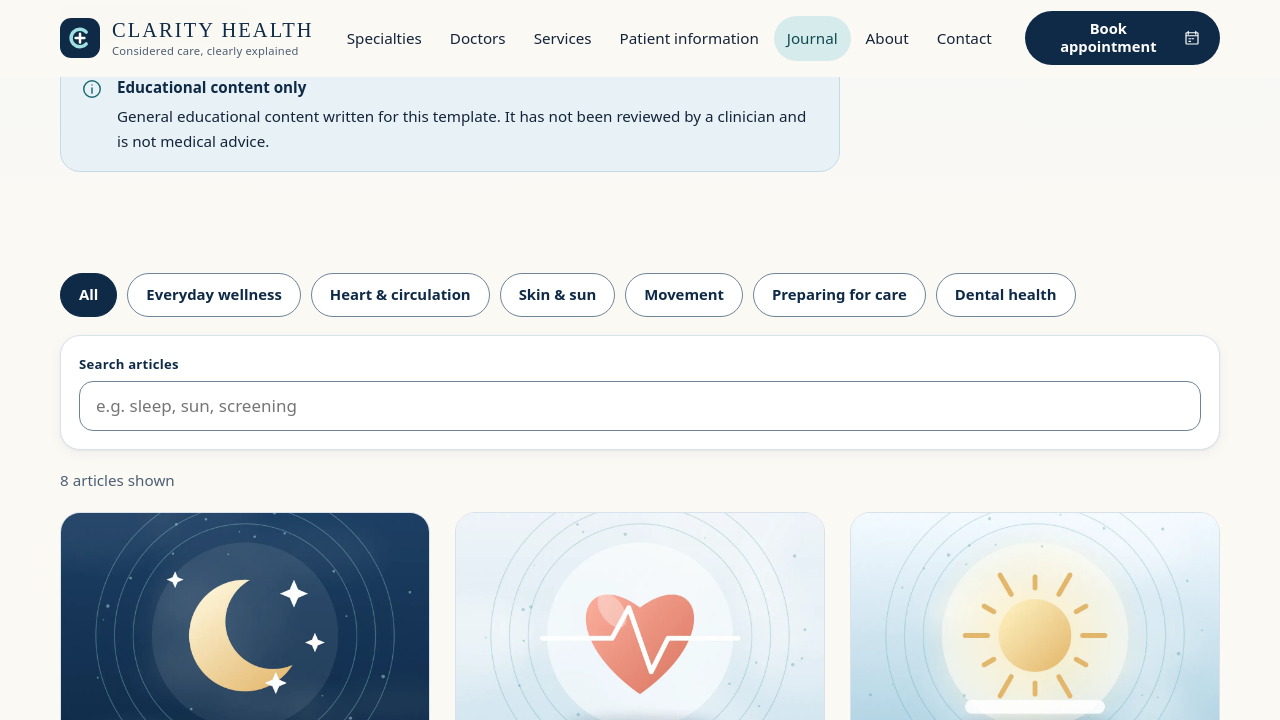
Test: filters › searches journal articles
(page scrolled)
Step 1. Type "sunscreen" into the search field labelled "Search articles" → (640, 406), box [79,381,1201,431]
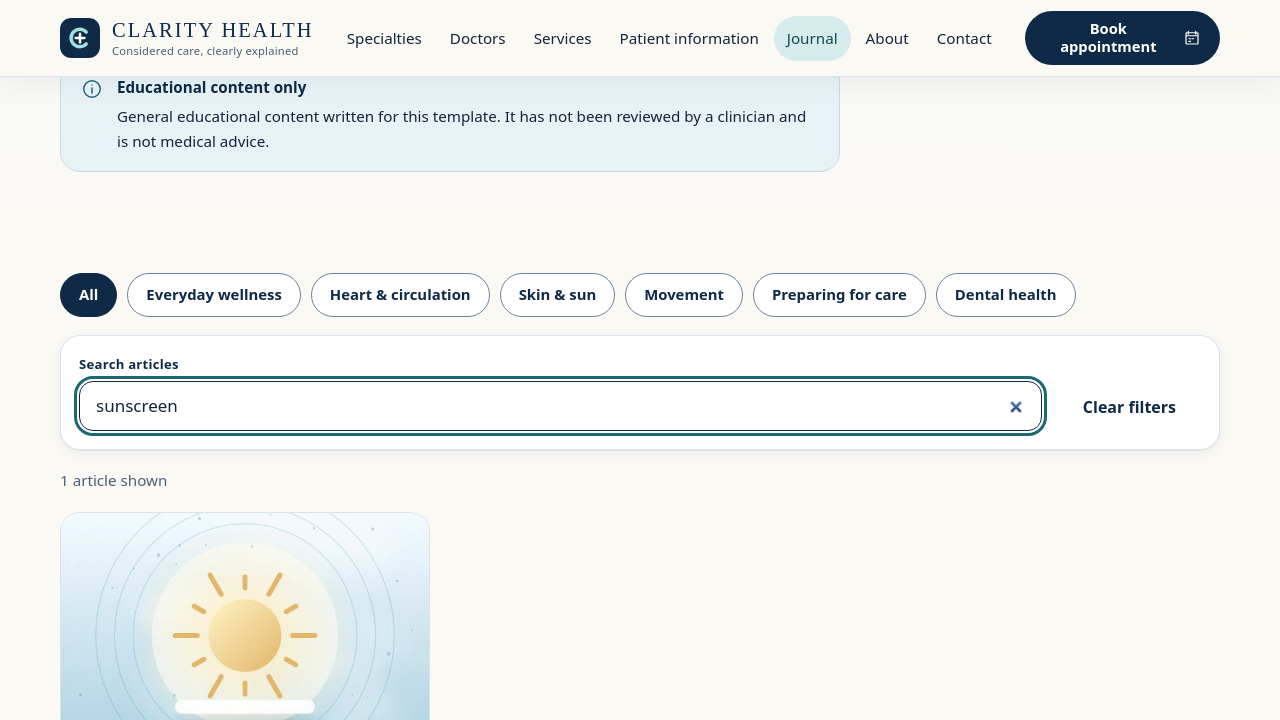
Result: the text "1 article shown" is shown at [60,470,167,490]
